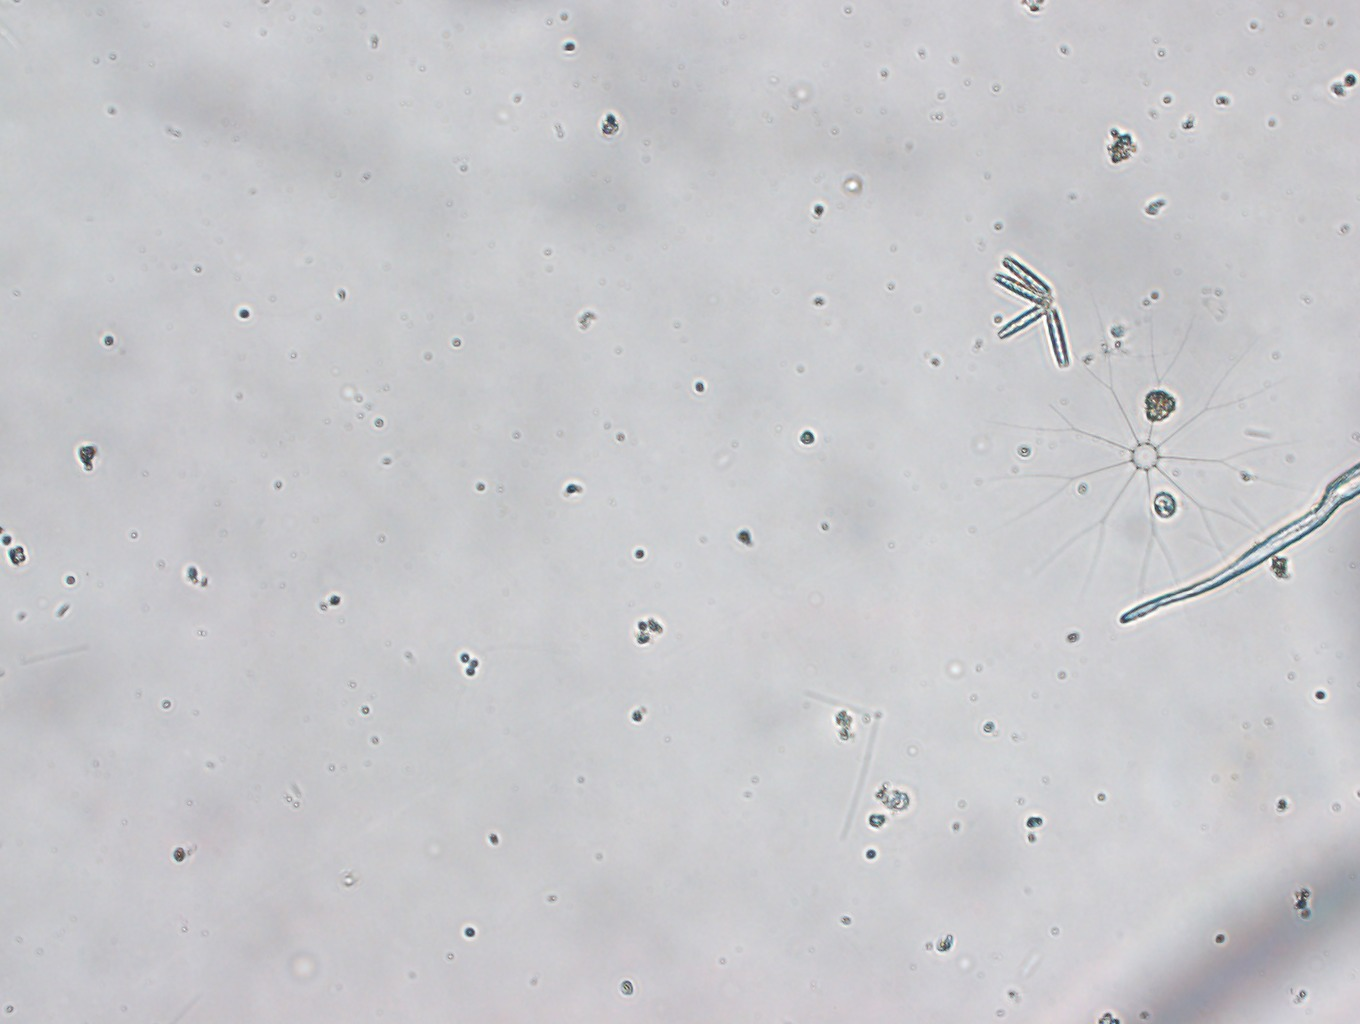bacteriastrum: (996, 321, 1273, 594)
thalassionema frauenfeldii: (980, 241, 1077, 371)
